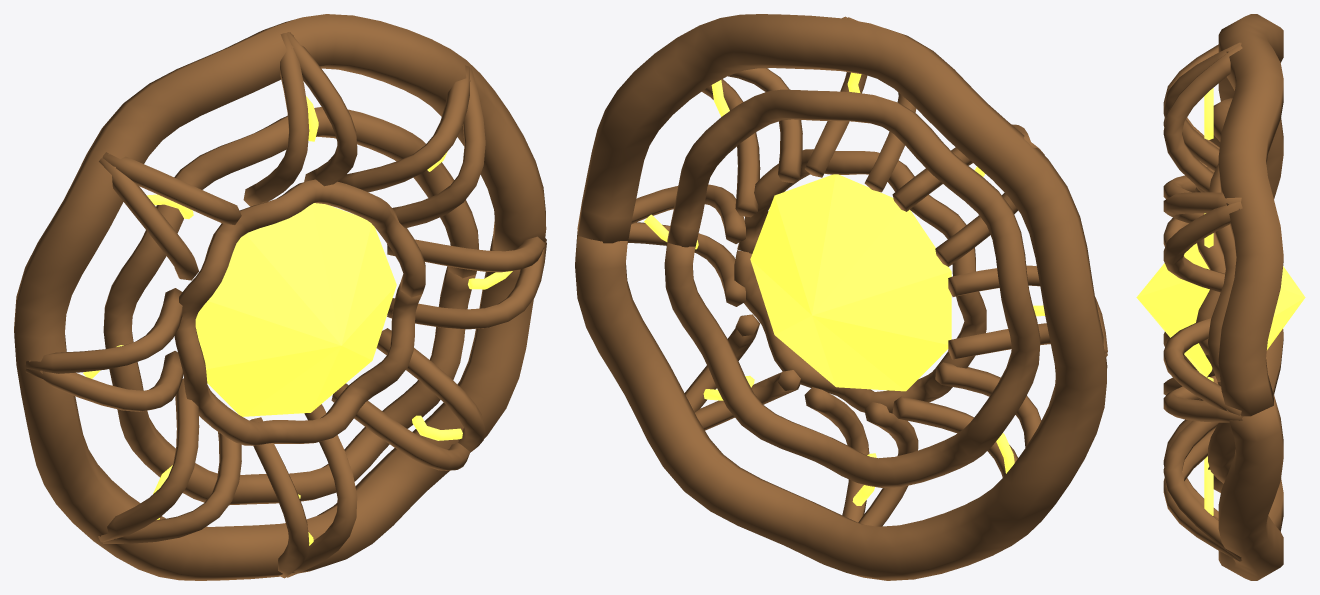
The model's file is PortalSealV19.fbx.
3 renders of one model, left to right at view 1: azimuth 30°, elevation 25°; view 2: azimuth 150°, elevation 25°; view 3: azimuth 270°, elevation 25°, orthographic. The views are drawn at different scales.
Visible parts, largest first — view 1: Seal_Vitrified, Seal_Ember; view 2: Seal_Vitrified, Seal_Ember; view 3: Seal_Vitrified, Seal_Ember.
Part boxes in pixels (<box>): Seal_Vitrified: <box>14,14,546,580</box>; Seal_Ember: <box>83,96,512,545</box>; Seal_Vitrified: <box>575,14,1107,580</box>; Seal_Ember: <box>644,72,1045,505</box>; Seal_Vitrified: <box>1163,14,1283,580</box>; Seal_Ember: <box>1136,88,1305,515</box>.
Size of the model in its own units: 0.188 by 0.188 by 0.056.
